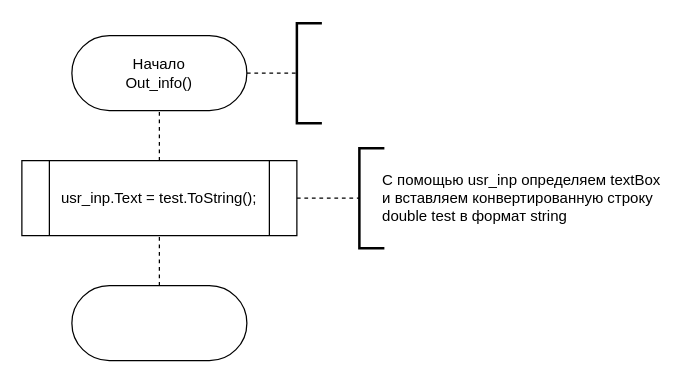
The diagram is 683 pixels wide and 383 high, and some of its shapes have lost their labels. The shapes that lost their labels are listed below. From the top down, each one's centre as x and y in pixels, then its label:
(x=308, y=72): Входные данные: TextBox usr_inp, double test Выходные данные: string test
(x=159, y=322): Конец Out_info()
